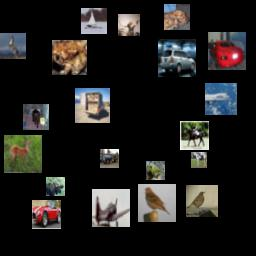airplane: (92, 189, 130, 227), (205, 83, 237, 115)
automobile: (158, 39, 196, 77), (208, 32, 246, 70), (32, 200, 61, 229)
bird: (138, 184, 176, 222), (186, 185, 218, 217)
cat: (23, 104, 49, 130)
deer: (4, 135, 42, 173), (118, 14, 140, 36), (46, 177, 65, 196)
dog: (164, 4, 190, 30)
frog: (52, 40, 87, 75), (146, 161, 165, 180)
ship: (81, 8, 107, 34)
truck: (75, 88, 110, 123), (100, 149, 119, 168)
